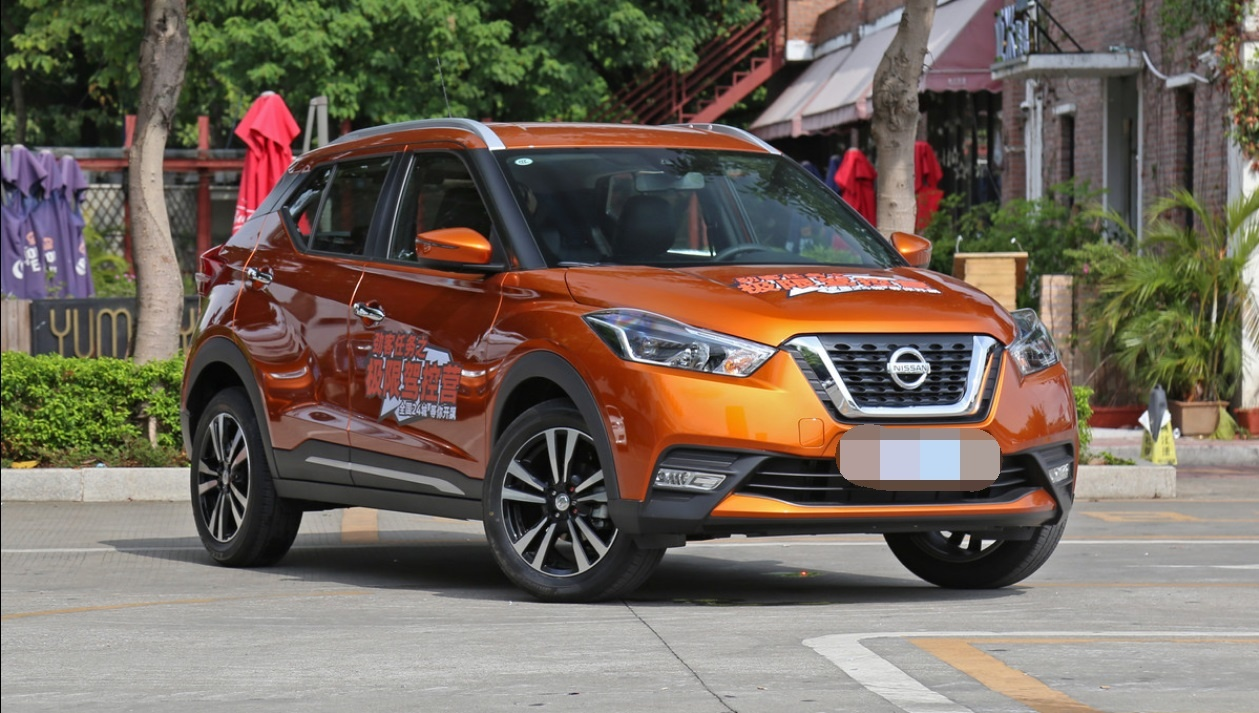SUV: (178, 112, 1097, 600)
